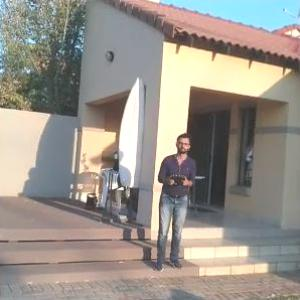follow: (150, 130, 197, 275)
